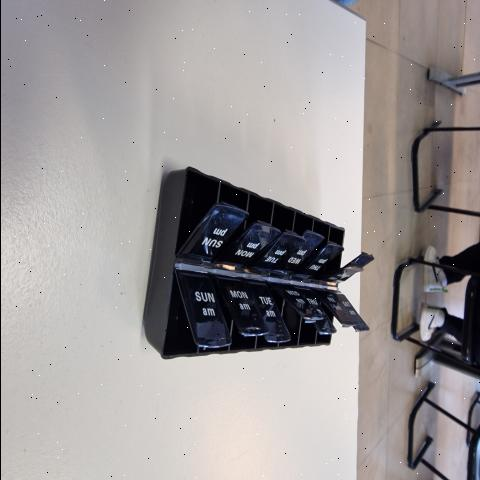Open: (162, 271, 226, 355), (174, 168, 217, 254), (213, 282, 265, 351), (218, 181, 254, 255), (278, 296, 314, 349), (314, 304, 356, 347), (332, 229, 365, 278), (313, 297, 346, 346), (243, 193, 279, 233), (309, 219, 337, 269), (272, 202, 300, 240), (292, 209, 323, 238), (298, 319, 318, 347), (255, 333, 276, 352)
